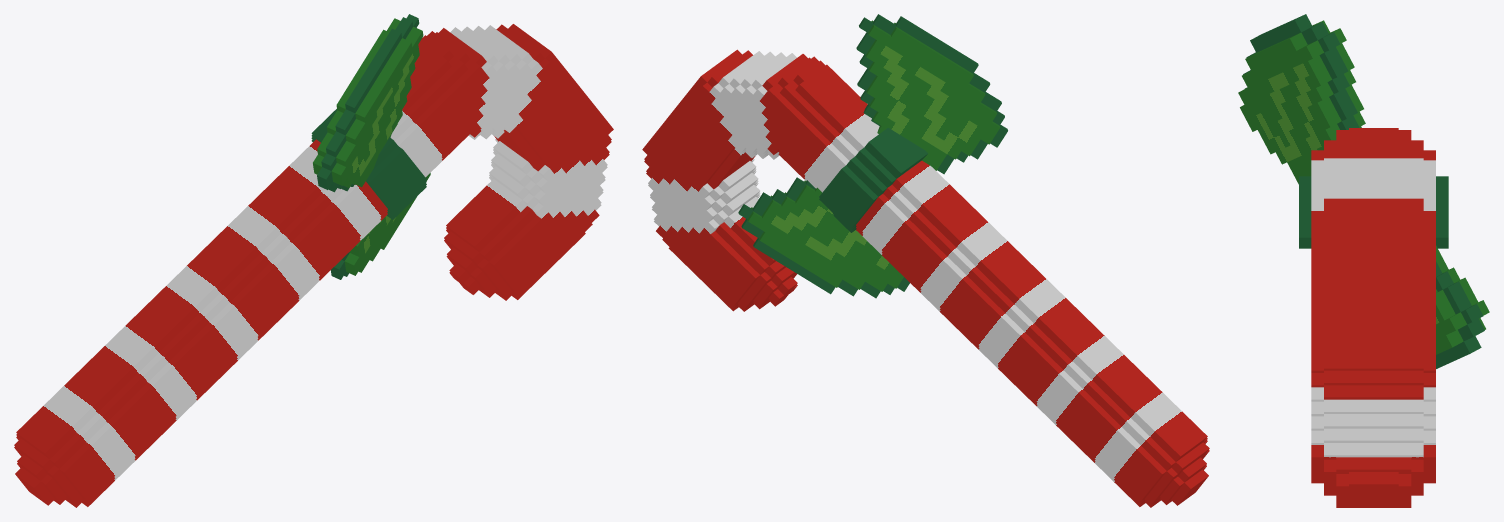
Rendered from 圣诞糖果棍.gltf.
The picture shows the model from 3 angles, left to right: view 1: azimuth 30°, elevation 25°; view 2: azimuth 150°, elevation 25°; view 3: azimuth 270°, elevation 25°; orthographic projection. The views are drawn at different scales.
Parts seen in each view (by area): view 1: Group-13, Group-14; view 2: Group-13, Group-14; view 3: Group-13, Group-14.
Boxes of the visible parts, box(x1,y1,x2,y2) form: Group-13: box(14, 24, 613, 507); Group-14: box(313, 14, 430, 279); Group-13: box(642, 49, 1209, 507); Group-14: box(738, 14, 1007, 298); Group-13: box(1299, 128, 1448, 507); Group-14: box(1238, 14, 1489, 368).
Bounding box in the file's own units: 38.35 × 26.89 × 11.31.
Materials: 1 (1 with a texture image).
